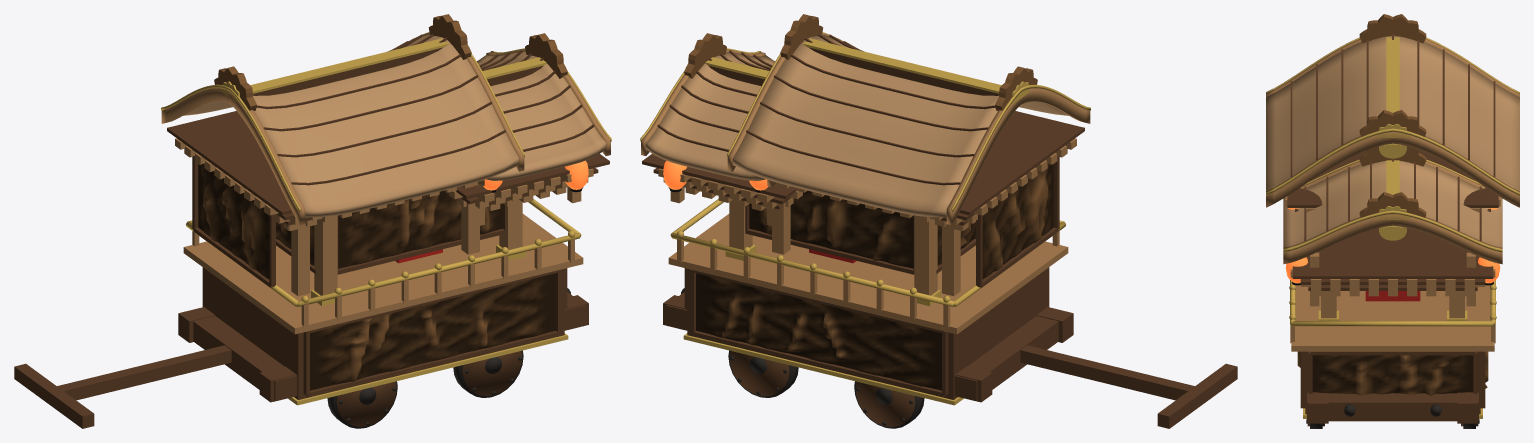
Rendered from danjiri.glb.
3 views of the same model, side by side, from view 1: azimuth 30°, elevation 25°; view 2: azimuth 150°, elevation 25°; view 3: azimuth 270°, elevation 25° (orthographic). The views are drawn at different scales.
Visible parts, largest first — view 1: body, wheel_RR, wheel_FR; view 2: body, wheel_RL, wheel_FL; view 3: body.
Boxes of the visible parts, box(x1,y1,x2,y2) form: body: box(14, 14, 611, 428); wheel_RR: box(327, 381, 397, 428); wheel_FR: box(453, 350, 523, 397); body: box(640, 14, 1237, 428); wheel_RL: box(854, 381, 924, 428); wheel_FL: box(728, 350, 798, 397); body: box(1266, 14, 1519, 423).
Size of the model in its own units: 6.87 by 4.45 by 3.24.
